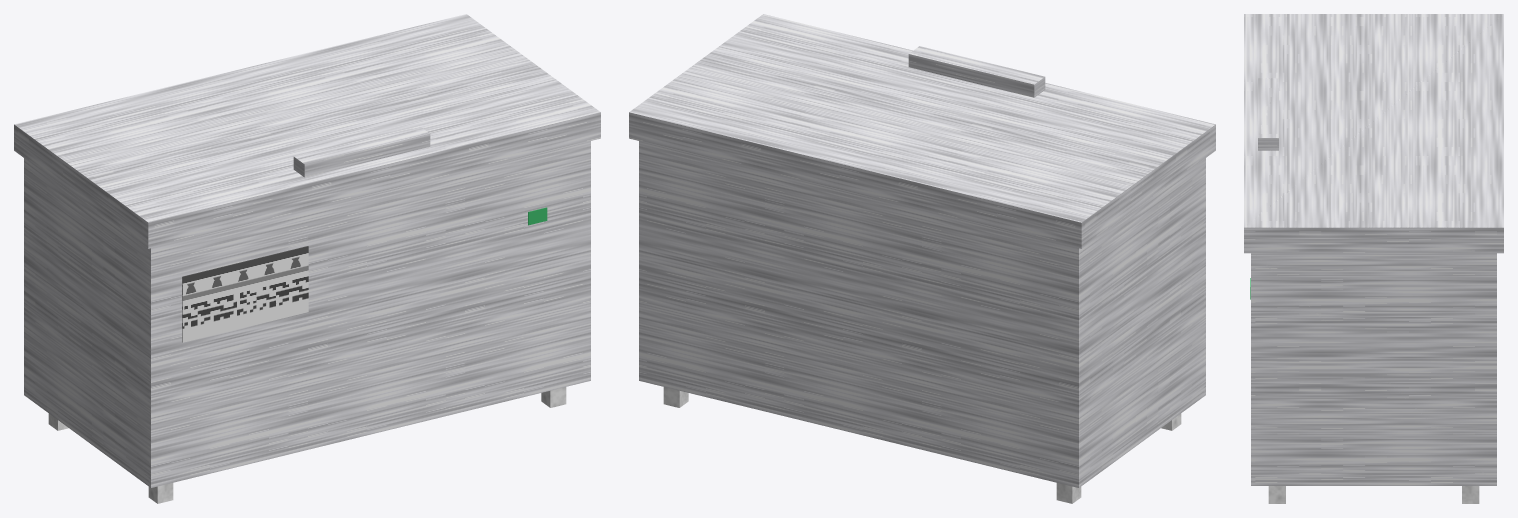
Rendered from congelatore.obj.
The picture shows the model from 3 angles, left to right: view 1: azimuth 30°, elevation 25°; view 2: azimuth 150°, elevation 25°; view 3: azimuth 270°, elevation 25°; orthographic projection. The views are drawn at different scales.
Parts seen in each view (by area): view 1: metallo_000, metallo_002, stampa_a_005, metallo_003, gomma_001; view 2: metallo_000, metallo_002, metallo_003, gomma_001; view 3: metallo_002, metallo_000, metallo_003, gomma_001.
Boxes of the visible parts, left/top/right/bottom form: metallo_000: left=24, top=141, right=590, bottom=487; metallo_002: left=14, top=14, right=600, bottom=248; stampa_a_005: left=182, top=246, right=308, bottom=342; metallo_003: left=293, top=125, right=430, bottom=177; gomma_001: left=48, top=387, right=566, bottom=503; metallo_000: left=639, top=141, right=1205, bottom=487; metallo_002: left=629, top=14, right=1215, bottom=248; metallo_003: left=908, top=46, right=1045, bottom=97; gomma_001: left=663, top=387, right=1181, bottom=503; metallo_002: left=1244, top=14, right=1503, bottom=253; metallo_000: left=1251, top=253, right=1496, bottom=485; metallo_003: left=1258, top=78, right=1278, bottom=150; gomma_001: left=1268, top=486, right=1479, bottom=503.
Bounding box in the file's own units: 1.44 × 0.94 × 0.74.
Materials: 6 (5 with a texture image).
